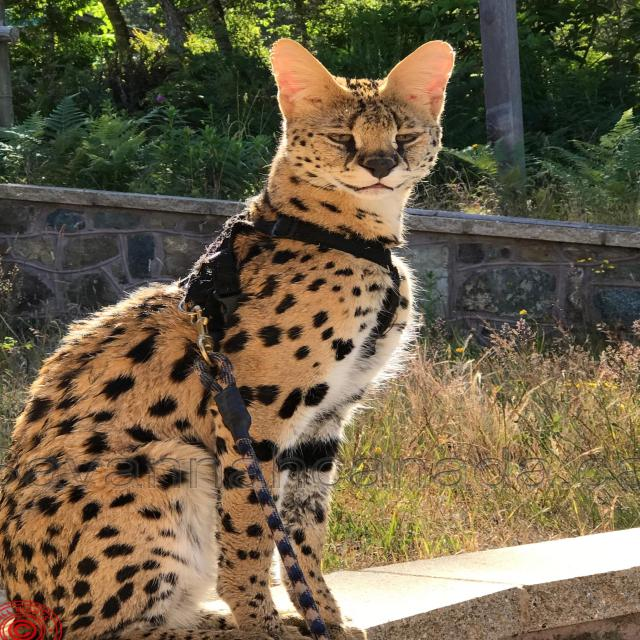Savannah: (0, 33, 464, 640)
